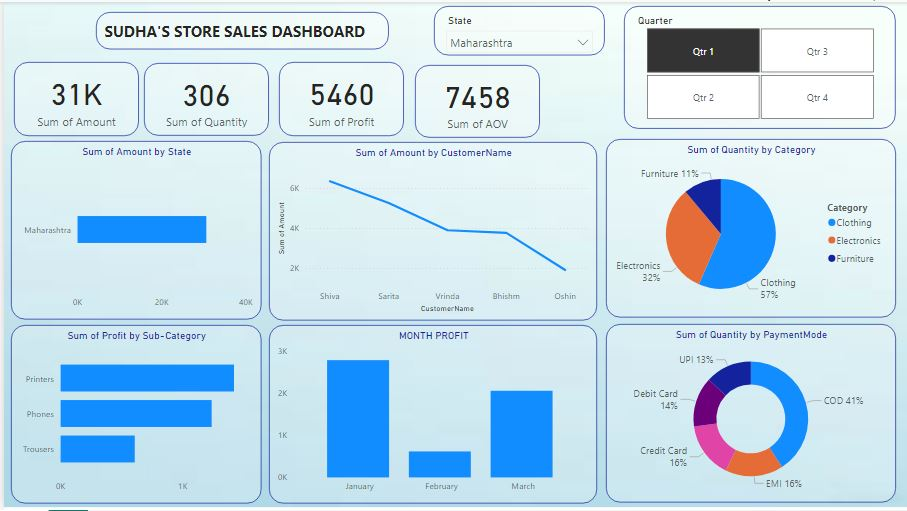

This screenshot's page, from the dashboard's own definition file:
{"tool":"powerbi","page":{"name":"Page 1","canvas":[1280,720],"ordinal":0},"visuals":[{"type":"textbox","box":[130.3,13.6,415.2,53],"z":0},{"type":"columnChart","title":"MONTH PROFIT","fields":{"Y":["Details.Profit"],"Category":["Orders.Order Date.Variation.Date Hierarchy.Month"]},"box":[375.8,457.6,465.2,253],"z":1000},{"type":"barChart","fields":{"Category":["Details.Sub-Category"],"Y":["Details.Profit"]},"box":[10.6,457.6,354.5,253],"z":2000},{"type":"pieChart","fields":{"Category":["Details.Category"],"Y":["Details.Quantity"]},"box":[853,193.9,410.6,253],"z":3000},{"type":"donutChart","fields":{"Y":["Details.Quantity"],"Category":["Details.PaymentMode"]},"box":[853,456.1,410.6,253],"z":4000},{"type":"card","fields":{"Values":["Details.Amount"]},"box":[13.6,84.8,177.3,104.5],"z":5000},{"type":"card","fields":{"Values":["Details.Quantity"]},"box":[198.5,86.4,177.3,103],"z":6000},{"type":"card","fields":{"Values":["Details.Profit"]},"box":[389.4,84.8,177.3,104.5],"z":7000},{"type":"card","fields":{"Values":["Details.AOV"]},"box":[581.8,89.4,177.3,103],"z":8000},{"type":"barChart","fields":{"Category":["Orders.State"],"Y":["Details.Amount"]},"box":[10.6,197,354.5,253],"z":9000},{"type":"lineChart","fields":{"Category":["Orders.CustomerName"],"Y":["Details.Amount"]},"box":[375.8,198.5,465.2,253],"z":10000},{"type":"slicer","fields":{"Values":["Orders.Order Date.Variation.Date Hierarchy.Quarter"]},"box":[878.8,6.1,384.8,174.2],"z":11000},{"type":"slicer","fields":{"Values":["Orders.State"]},"box":[609.1,6.1,242.4,69.7],"z":12000}]}

Visuals, with their boxes in screenshot pixels (x1, y1, x2, y2), scaled from the page's 1280x720 canvas onto the 907x511 screenshot:
textbox: pyautogui.locateOnScreen(92, 10, 387, 47)
"MONTH PROFIT" columnChart: pyautogui.locateOnScreen(266, 325, 596, 504)
barChart - Details.Sub-Category x Details.Profit: pyautogui.locateOnScreen(8, 325, 259, 504)
pieChart - Details.Category x Details.Quantity: pyautogui.locateOnScreen(604, 138, 895, 317)
donutChart - Details.Quantity x Details.PaymentMode: pyautogui.locateOnScreen(604, 324, 895, 503)
card - Details.Amount: pyautogui.locateOnScreen(10, 60, 135, 134)
card - Details.Quantity: pyautogui.locateOnScreen(141, 61, 266, 134)
card - Details.Profit: pyautogui.locateOnScreen(276, 60, 402, 134)
card - Details.AOV: pyautogui.locateOnScreen(412, 63, 538, 137)
barChart - Orders.State x Details.Amount: pyautogui.locateOnScreen(8, 140, 259, 319)
lineChart - Orders.CustomerName x Details.Amount: pyautogui.locateOnScreen(266, 141, 596, 320)
slicer - Orders.Order Date.Variation.Date Hierarchy.Quarter: pyautogui.locateOnScreen(623, 4, 895, 128)
slicer - Orders.State: pyautogui.locateOnScreen(432, 4, 603, 54)
